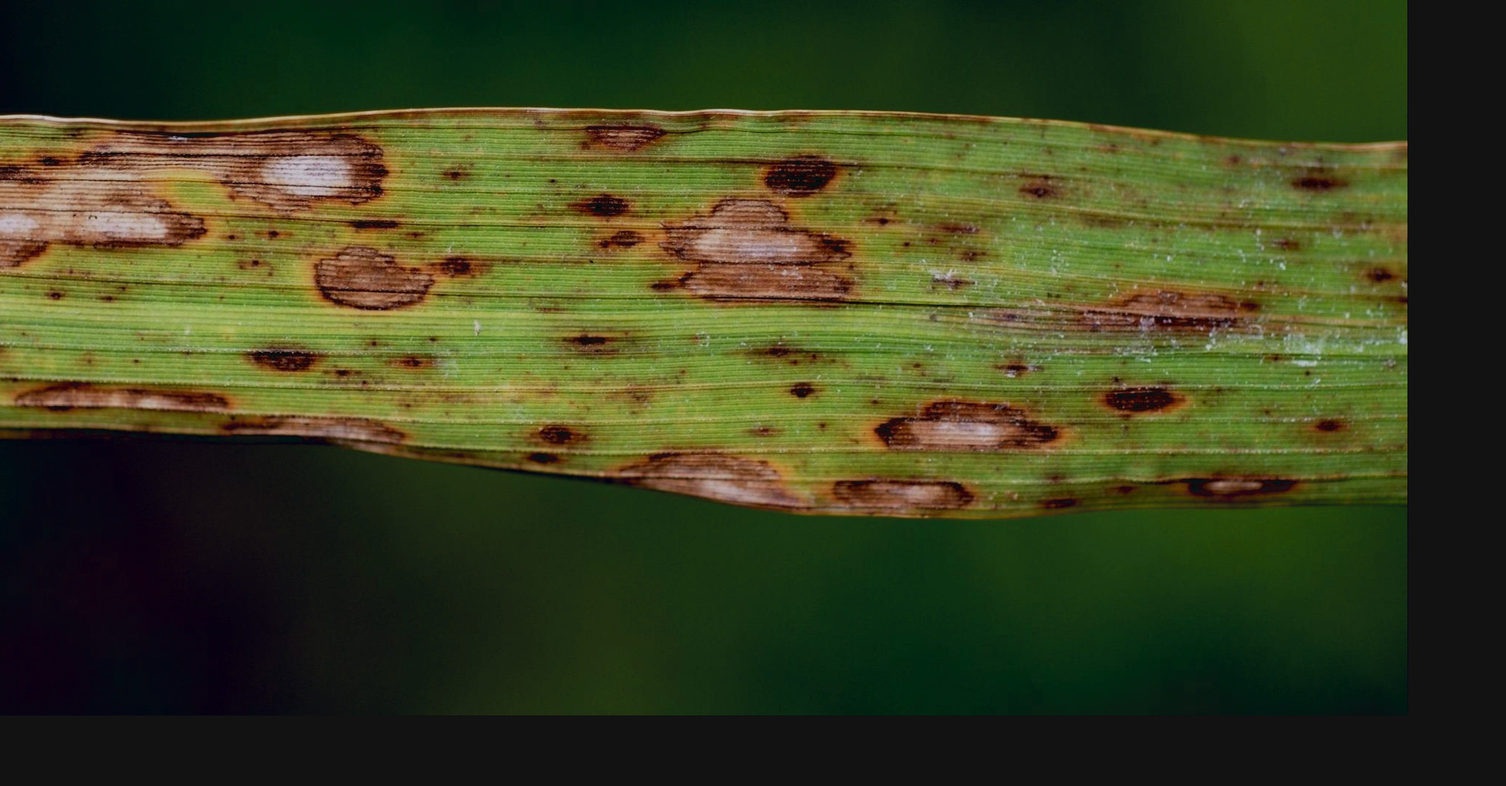Bacterial_Leaf_Blight: (603, 192, 866, 328), (0, 166, 241, 270), (213, 99, 411, 209), (845, 369, 1079, 460), (966, 271, 1288, 337), (263, 237, 505, 318), (601, 432, 830, 517), (0, 342, 238, 422), (1025, 457, 1307, 519), (232, 395, 426, 461), (1083, 342, 1226, 423), (221, 306, 364, 375), (739, 133, 861, 207), (563, 114, 691, 157), (511, 409, 580, 481), (1277, 161, 1366, 213)
